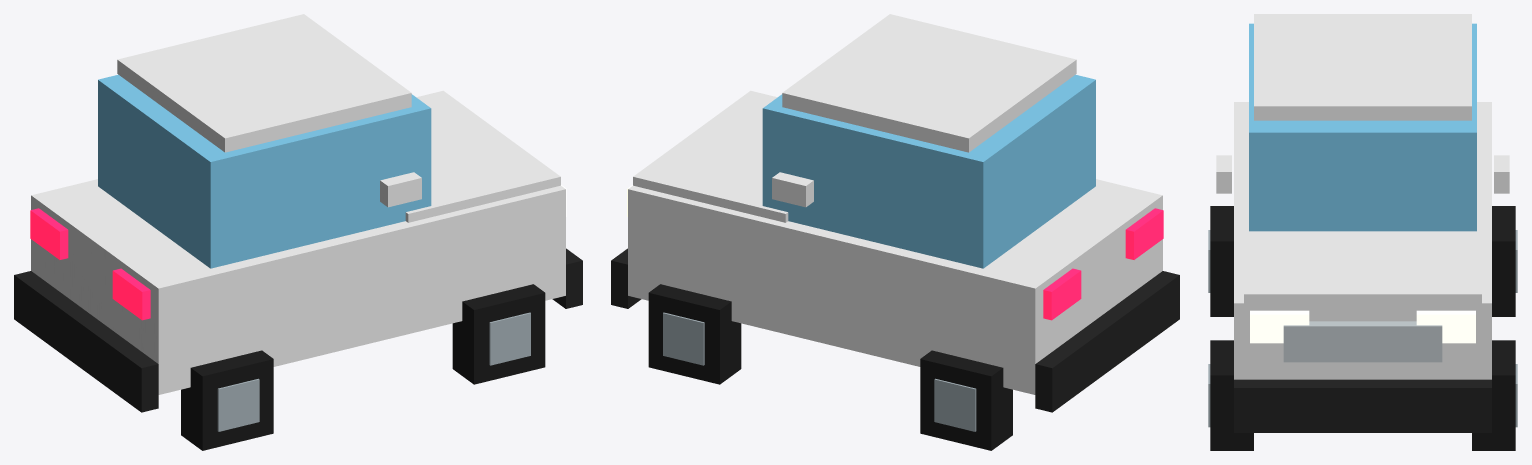
Rendered from car.glb.
The picture shows the model from 3 angles, left to right: view 1: azimuth 30°, elevation 25°; view 2: azimuth 150°, elevation 25°; view 3: azimuth 270°, elevation 25°; orthographic projection.
Parts seen in each view (by area): view 1: Body, Glass, Roof, Hood, Bumper.001, Wheel.003, Wheel.001, Rim.001, Rim.003, Tail, Tail.001, Mirror (+1 smaller); view 2: Body, Glass, Roof, Hood, Bumper.001, Wheel.002, Wheel, Rim, Rim.002, Tail, Tail.001, Mirror.001 (+1 smaller); view 3: Glass, Roof, Hood, Body, Bumper, Grill, Wheel.002, Wheel.003, Wheel, Wheel.001, Lamp, Lamp.001 (+2 smaller).
Part boxes in pixels (x1,y1,x2,y2): Body: (31, 179, 565, 394); Glass: (98, 74, 431, 268); Roof: (117, 14, 411, 152); Hood: (405, 90, 560, 222); Bumper.001: (14, 271, 158, 412); Wheel.003: (452, 284, 545, 384); Wheel.001: (181, 350, 273, 450); Rim.001: (217, 378, 259, 431); Rim.003: (489, 312, 530, 365); Tail: (112, 268, 150, 320); Tail.001: (30, 208, 68, 259); Mirror: (380, 172, 421, 207); Body: (628, 179, 1162, 394); Glass: (762, 74, 1095, 268); Roof: (782, 14, 1076, 152); Hood: (633, 90, 788, 222); Bumper.001: (1035, 271, 1179, 412); Wheel.002: (648, 284, 741, 384); Wheel: (920, 350, 1012, 450); Rim: (934, 378, 976, 431); Rim.002: (663, 312, 704, 365); Tail: (1125, 208, 1163, 259); Tail.001: (1043, 268, 1081, 320); Mirror.001: (772, 172, 813, 207); Glass: (1249, 23, 1476, 231); Roof: (1254, 14, 1471, 120); Hood: (1244, 219, 1481, 311); Body: (1234, 102, 1491, 379); Bumper: (1234, 379, 1491, 432); Grill: (1283, 321, 1442, 362); Wheel.002: (1472, 340, 1515, 450); Wheel.003: (1210, 340, 1253, 450); Wheel: (1492, 206, 1515, 316); Wheel.001: (1210, 206, 1233, 316); Lamp: (1250, 310, 1309, 343); Lamp.001: (1416, 310, 1475, 343).
Size of the model in its own units: 2.6 by 1.61 by 1.56.
